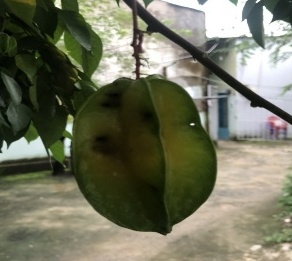Khe: (70, 73, 218, 238)
